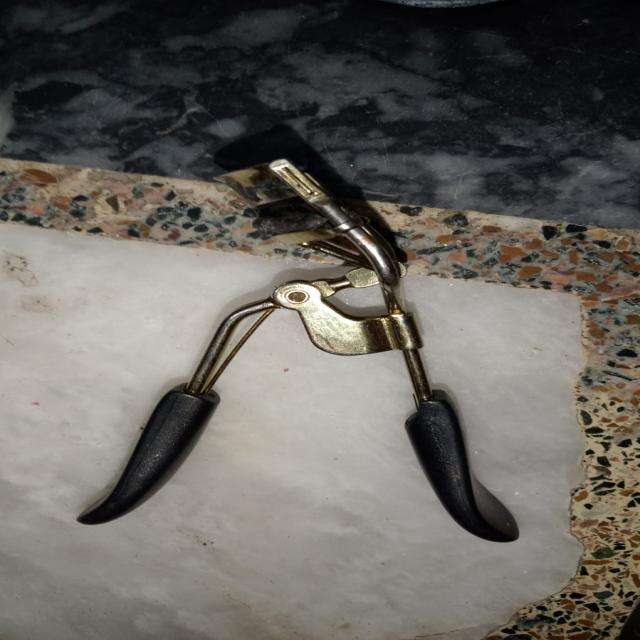eyelash curler: (40, 119, 551, 561)
